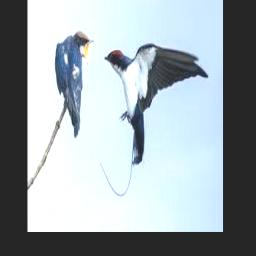Swallow: (104, 42, 208, 165), (55, 30, 93, 137)
